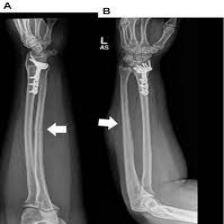impacted-fracture: (0, 17, 199, 224)
